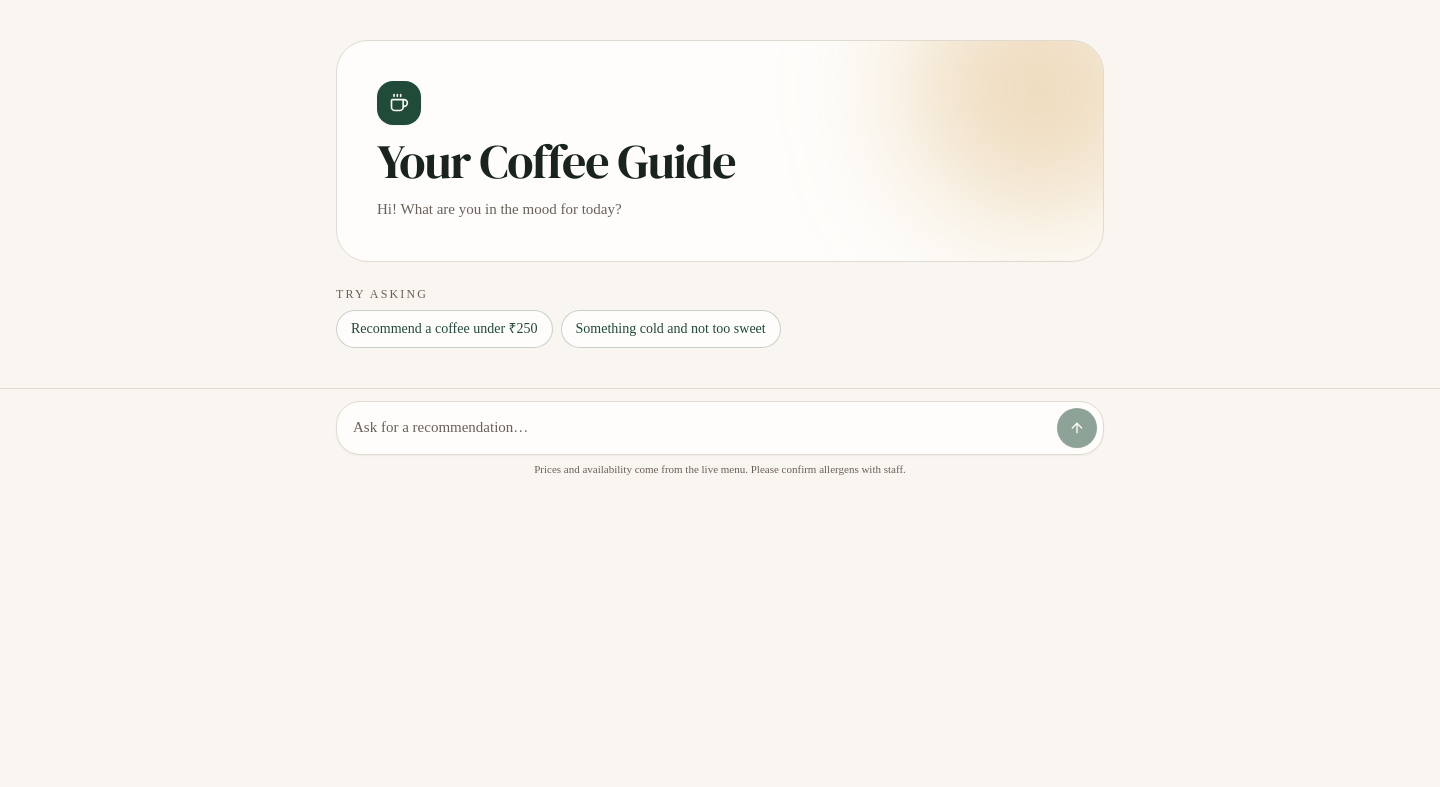
Scenario: Chat › renders recommendation cards with real prices, reasons, filters and follow-ups
Step 1. Click the button "Recommend a coffee under ₹250" → point(444, 329), box left=336, top=310, right=553, bottom=348
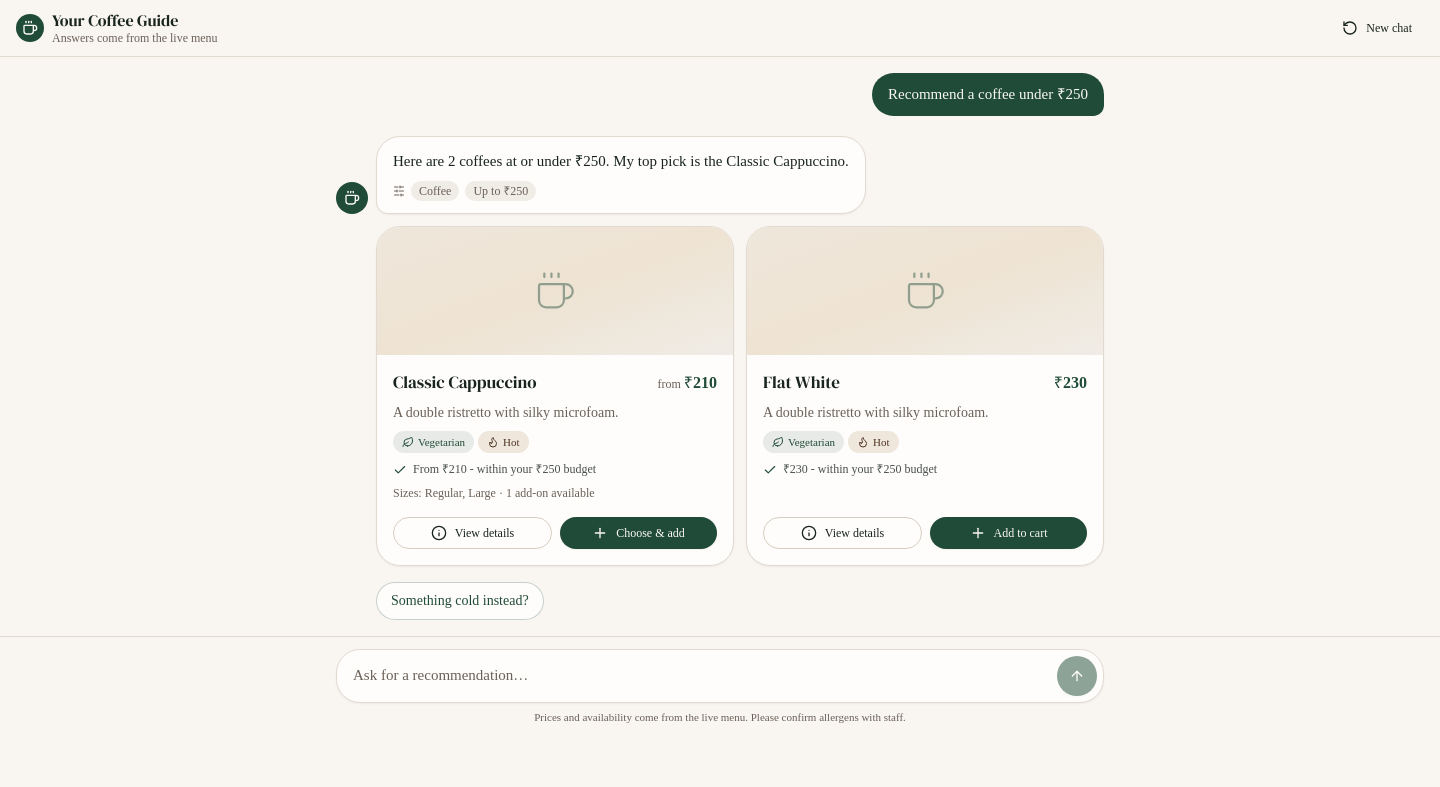
Expected: the element with test id "rec-price" reads "from ₹210", left=658, top=371, right=717, bottom=395
Expected: the list item "From ₹210 - within your ₹250 budget" is shown, left=393, top=462, right=596, bottom=477
Expected: the 1st text "Vegetarian" is shown, left=393, top=431, right=474, bottom=453
Step 2. Click the button "Something cold instead?" → point(460, 601), box left=376, top=582, right=544, bottom=620
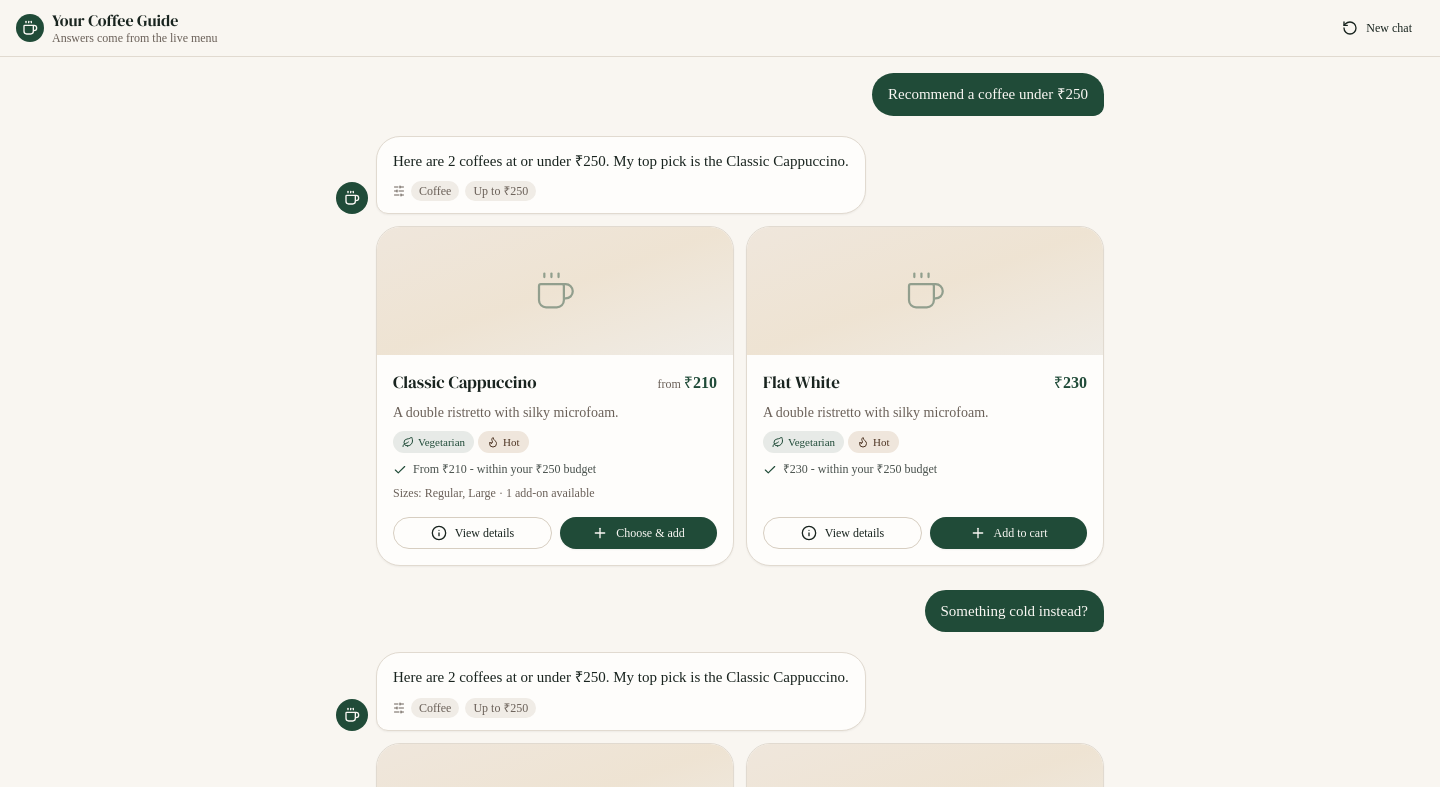
Expected: the text "Something cold instead?" is shown, left=924, top=590, right=1104, bottom=632
